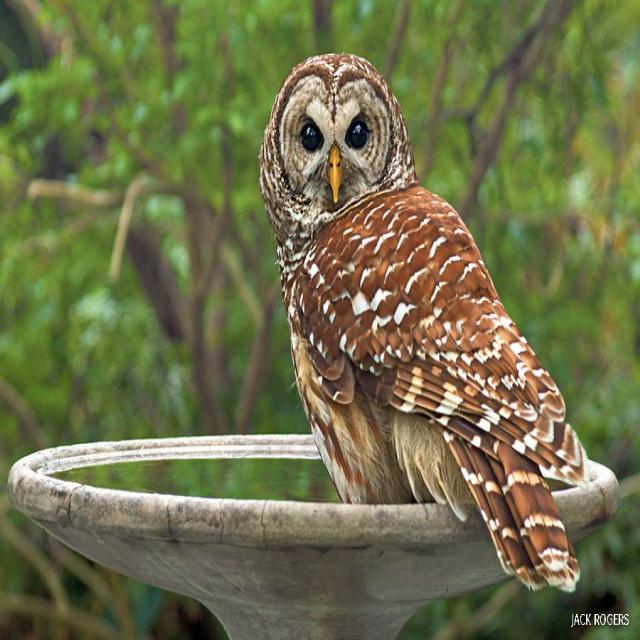Owl: (254, 37, 598, 596)
